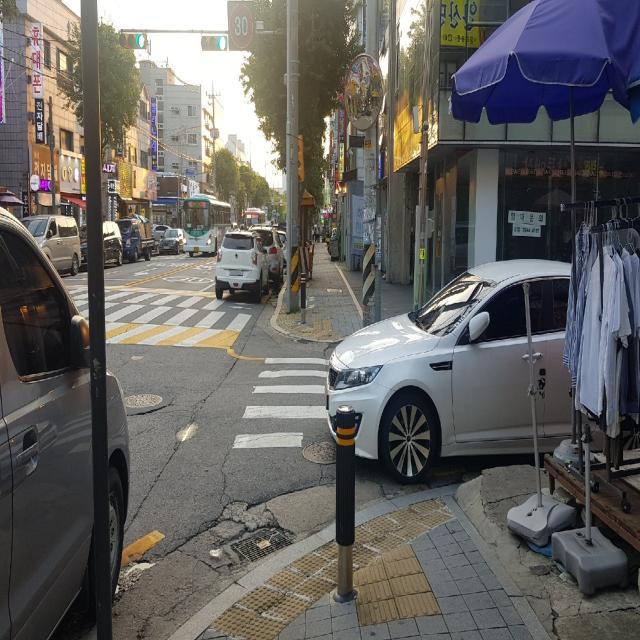횡단보도: (21, 282, 257, 338), (231, 356, 331, 450)
